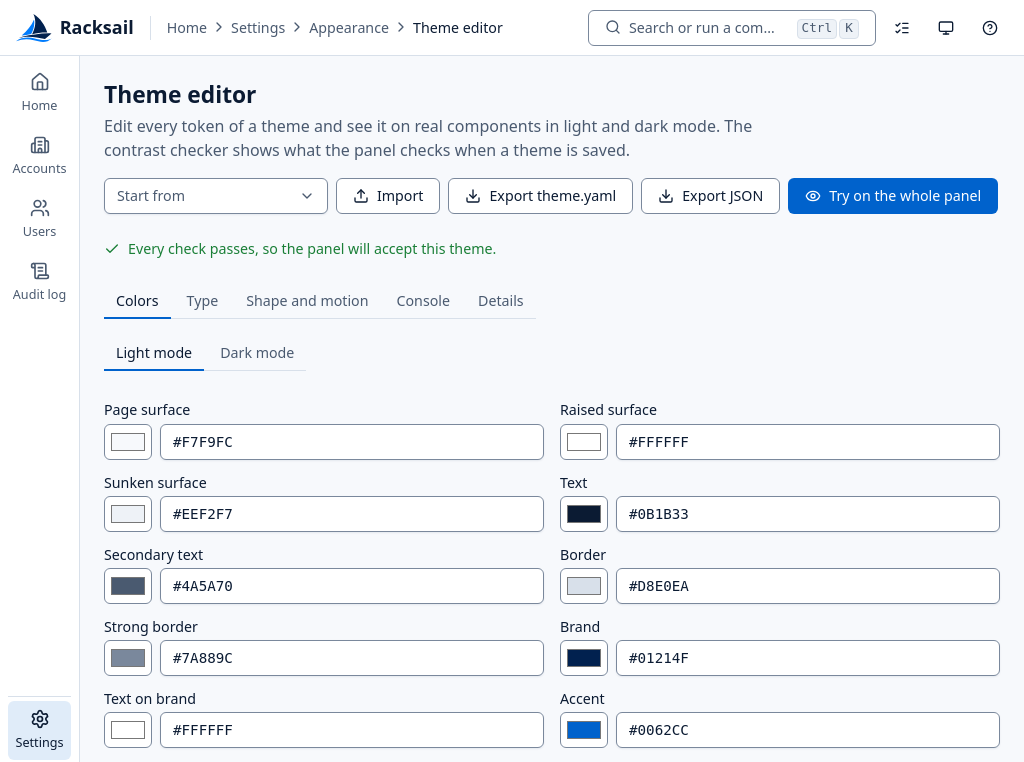
Scenario: the theme editor › starts from a built-in theme
Expected: the heading "Theme editor" is shown, [104,79,256,110]
Click the dropdown labelled "Start from".
click(216, 196)  # box [104,178,328,214]
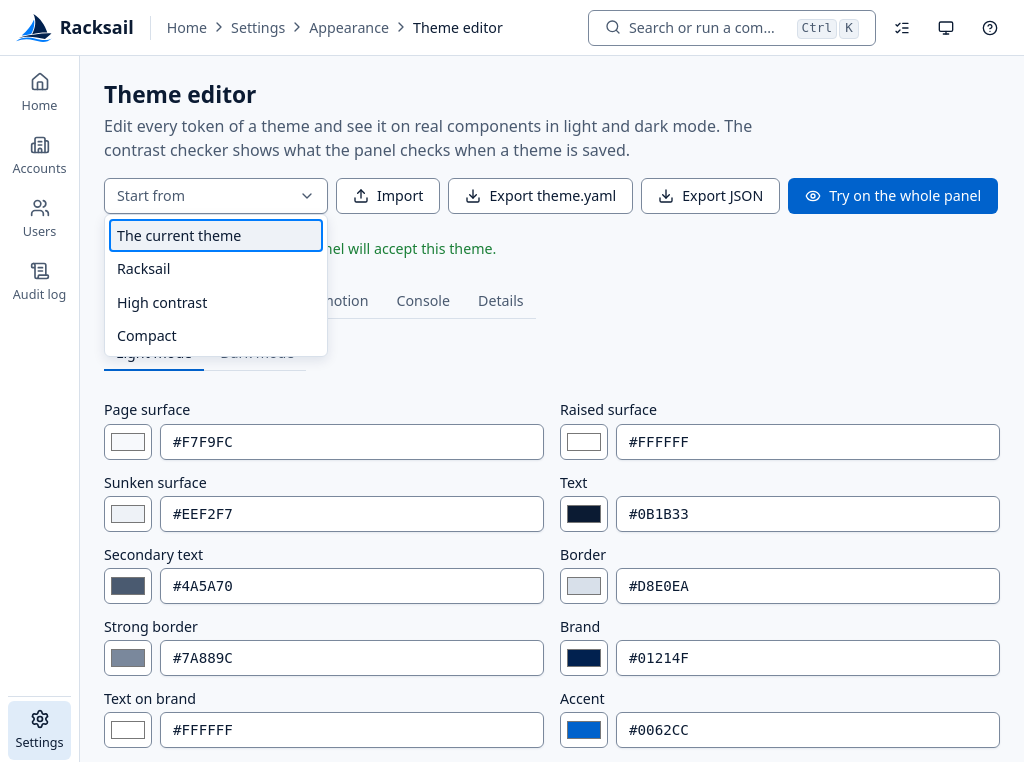
Click the option "High contrast".
click(162, 302)  # box [117,293,207,312]
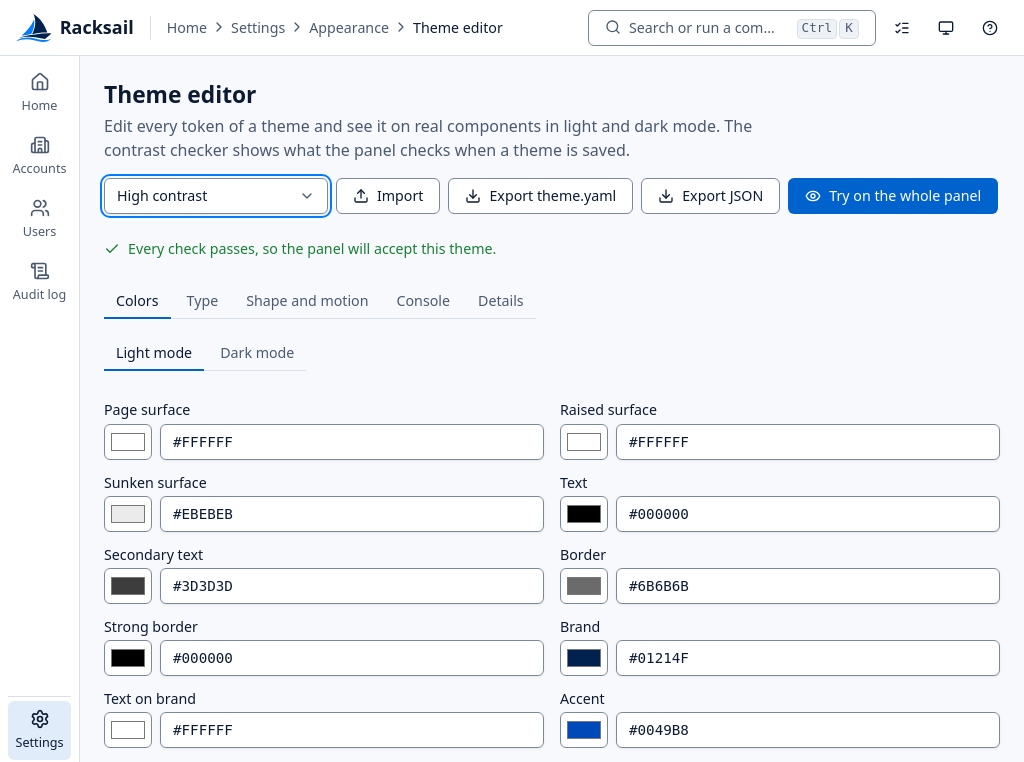
Click the tab "Details".
click(501, 301)  # box [466,283,536,319]
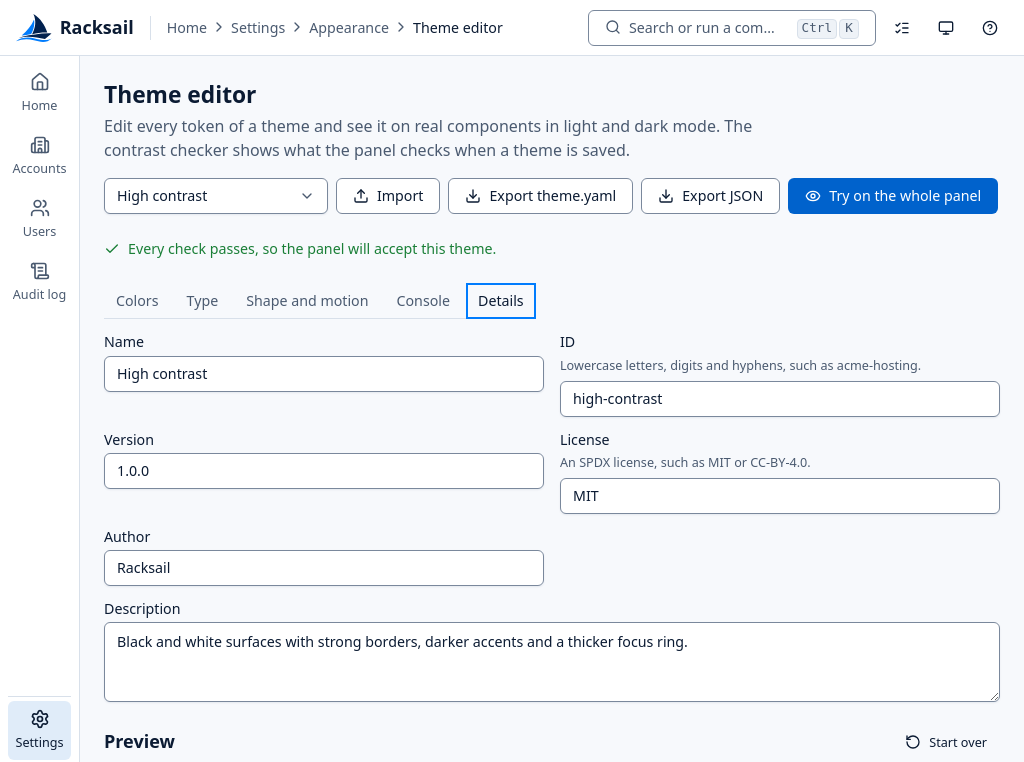
Expected: the field labelled "Name" holds "High contrast", [104,356,544,392]
Expected: the field labelled "ID" holds "high-contrast", [560,381,1000,417]
